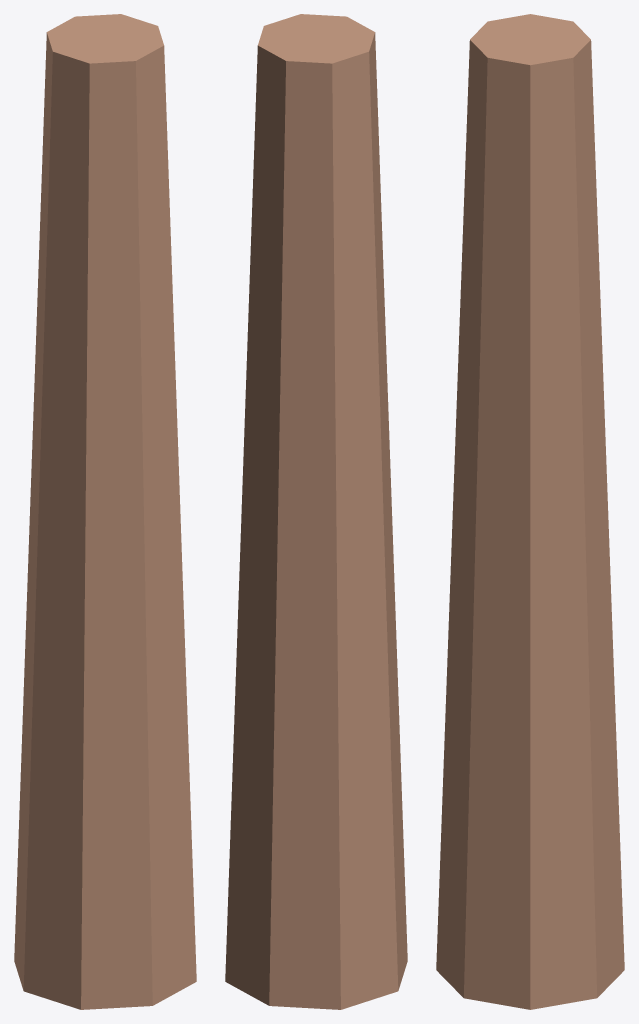
Rendered from wk_buck_lean_thigh_v01.glb.
3 views of the same model, side by side, from view 1: azimuth 30°, elevation 25°; view 2: azimuth 150°, elevation 25°; view 3: azimuth 270°, elevation 25° (orthographic).
Parts seen in each view (by area): view 1: GEO_thigh; view 2: GEO_thigh; view 3: GEO_thigh.
Boxes of the visible parts, bbox=[...] form: GEO_thigh: bbox=[14, 14, 196, 1009]; GEO_thigh: bbox=[225, 14, 407, 1009]; GEO_thigh: bbox=[436, 14, 624, 1009].
Size of the model in its own units: 0.1837 by 1 by 0.1837.
